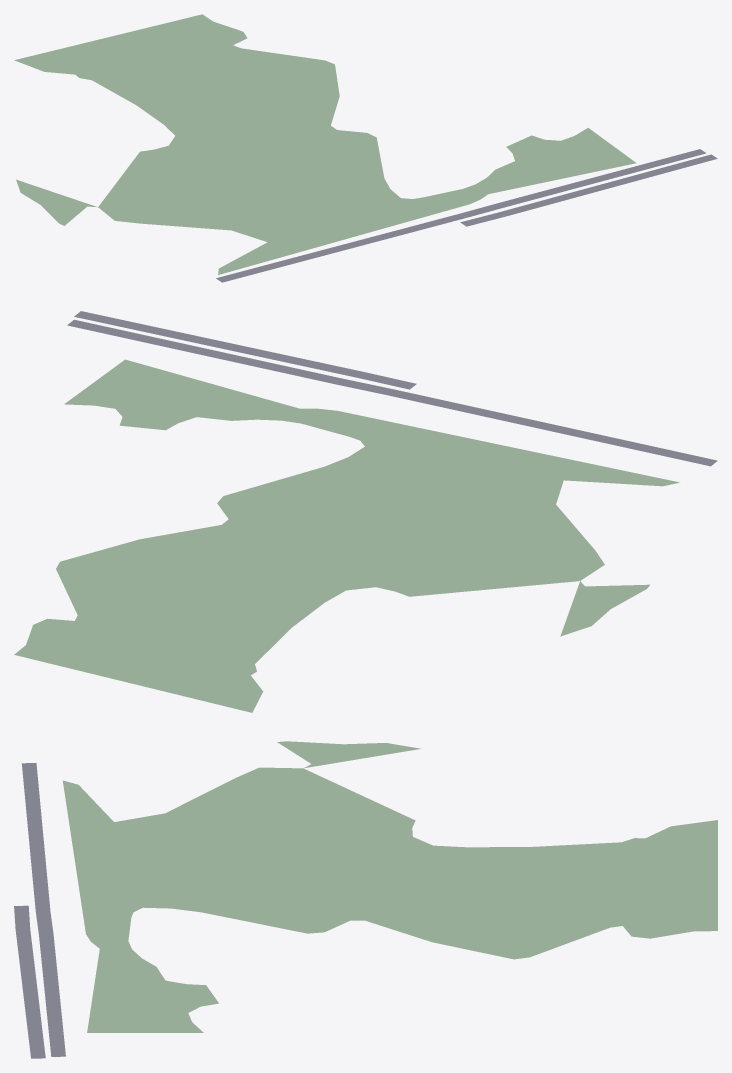
The model's file is 119_128_mid.glb.
The picture shows the model from 3 angles, top to bottom: view 1: azimuth 30°, elevation 25°; view 2: azimuth 150°, elevation 25°; view 3: azimuth 270°, elevation 25°; orthographic projection. The views are drawn at different scales.
Size of the model in its own units: 549 by 7.58 by 501.
